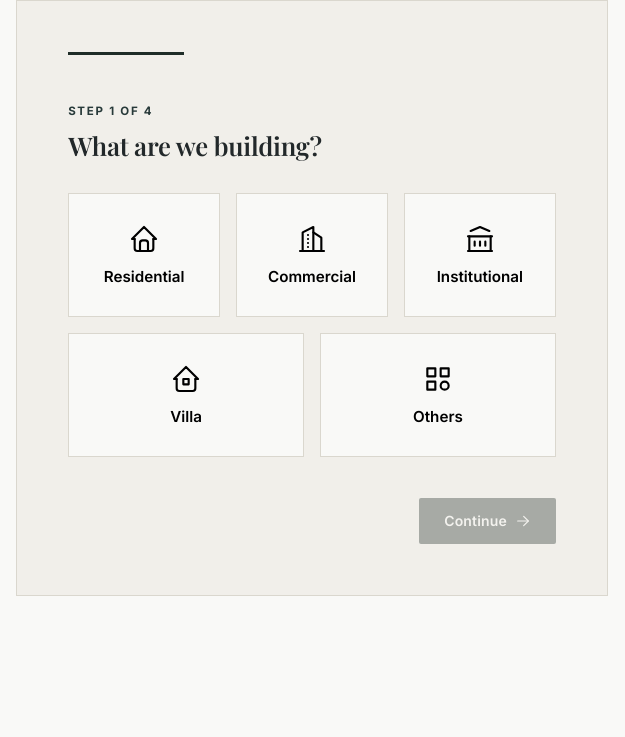
real project enquiry submission › requires an Other description before advancing
The image size is (625, 737).
Click the button "Others": [438, 395] box x1=320 y1=333 x2=556 y2=457
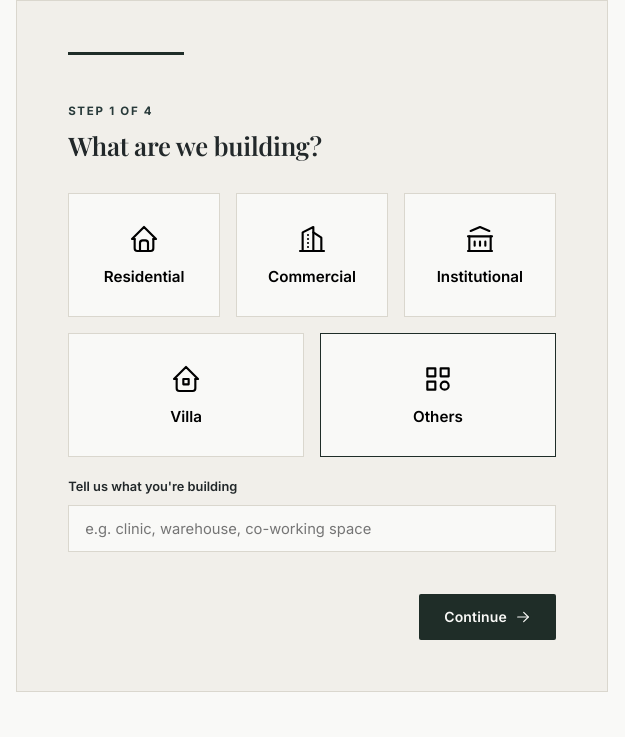
Click the button "Continue": [488, 617] box x1=419 y1=594 x2=556 y2=640
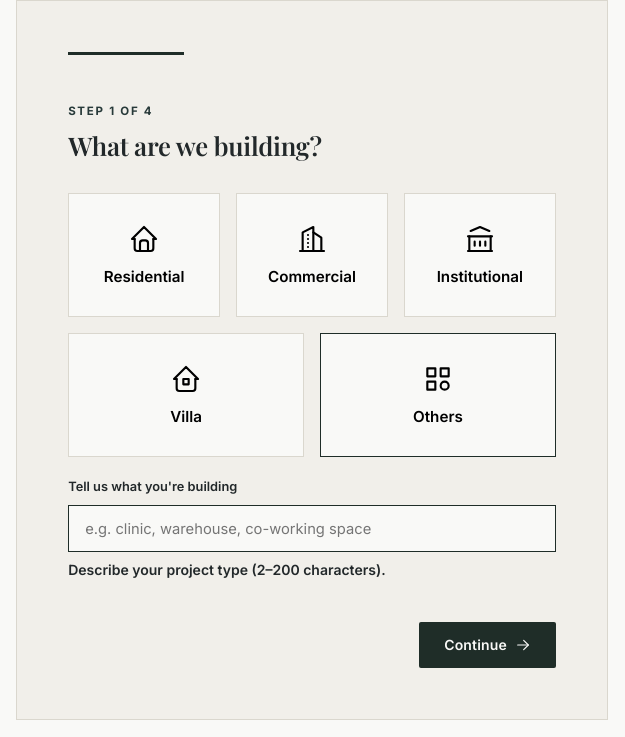
Now the text "Describe your project type (2–200 characters)." is shown, box x1=68 y1=561 x2=386 y2=578
